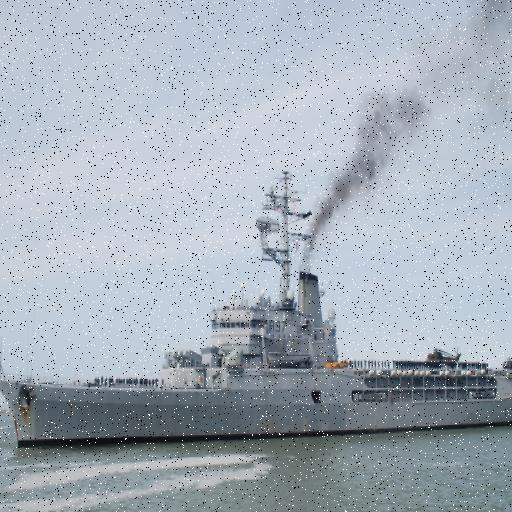Portanaves: (1, 164, 512, 456)
